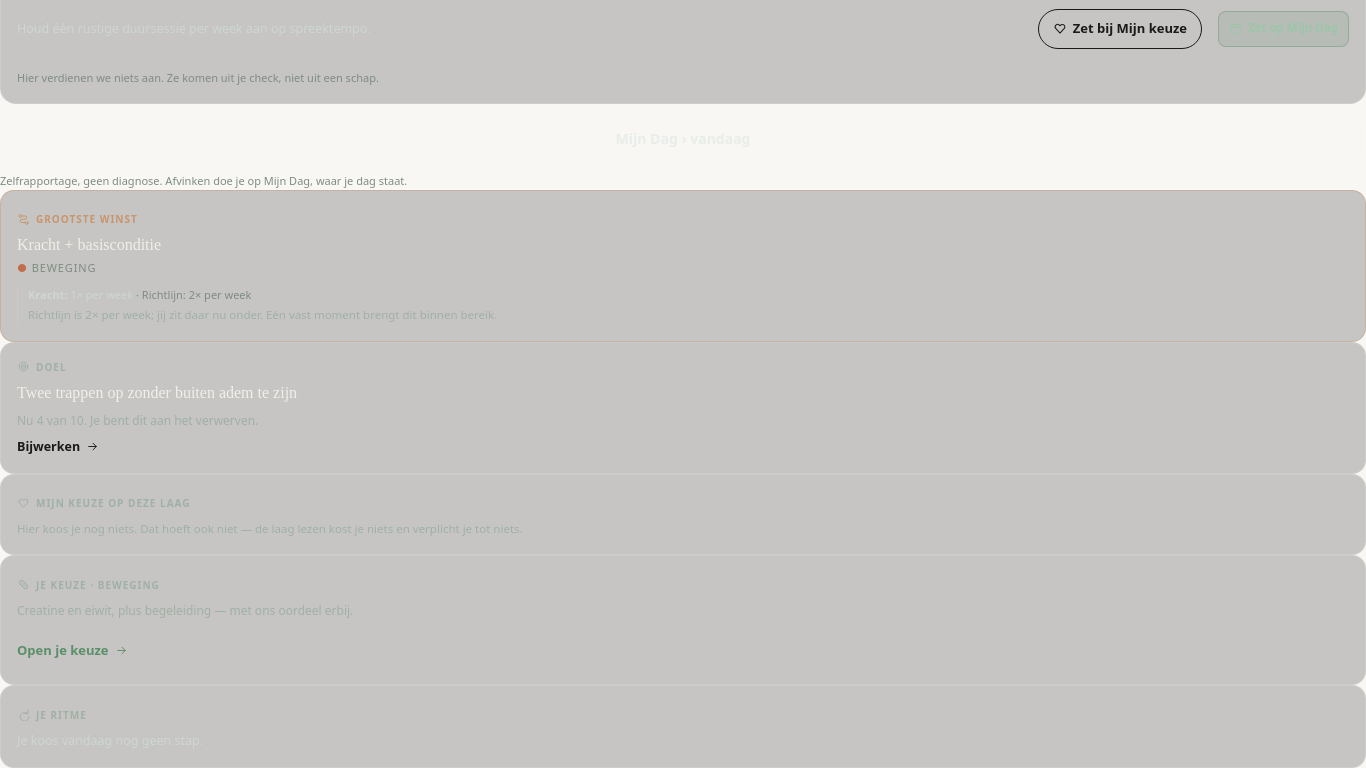
Test: Contextkolom — zone: doel › laat je hier herscoren, zonder naar het midden te hoeven
(page scrolled)
Click the button named "Bijwerken". click: point(157, 393)
box: 17,383 -> 1349,457
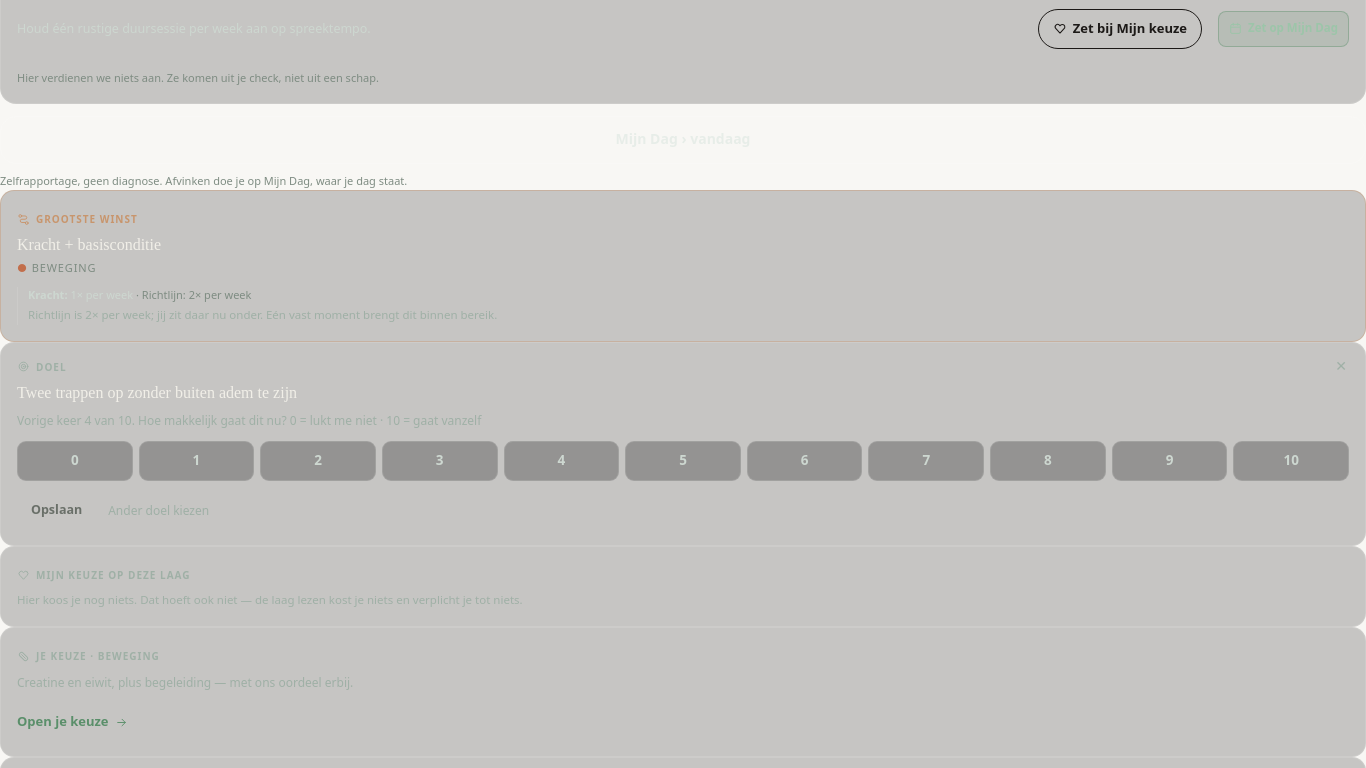
Click the button "8". click: point(1048, 461)
box: 990,441 -> 1106,481
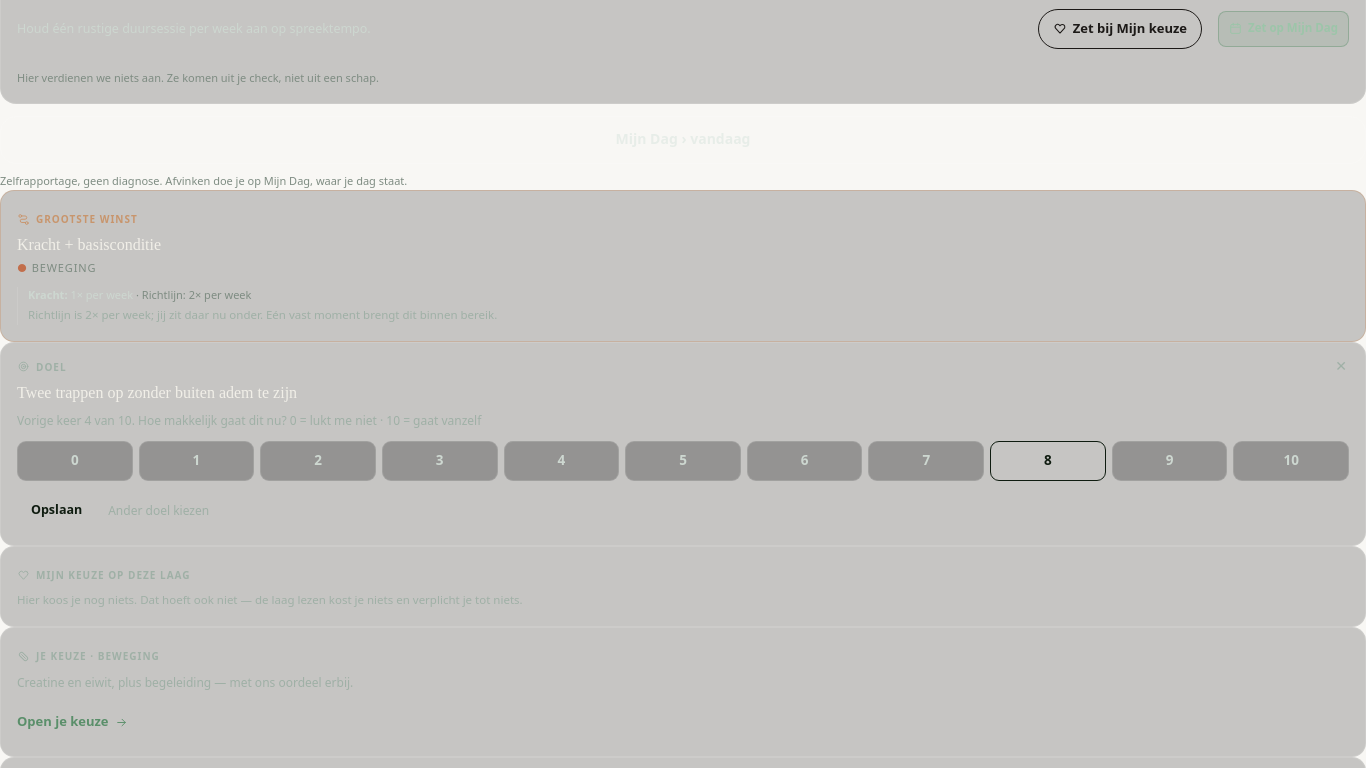
Click the button "Opslaan". click: point(57, 511)
box: 17,493 -> 96,529
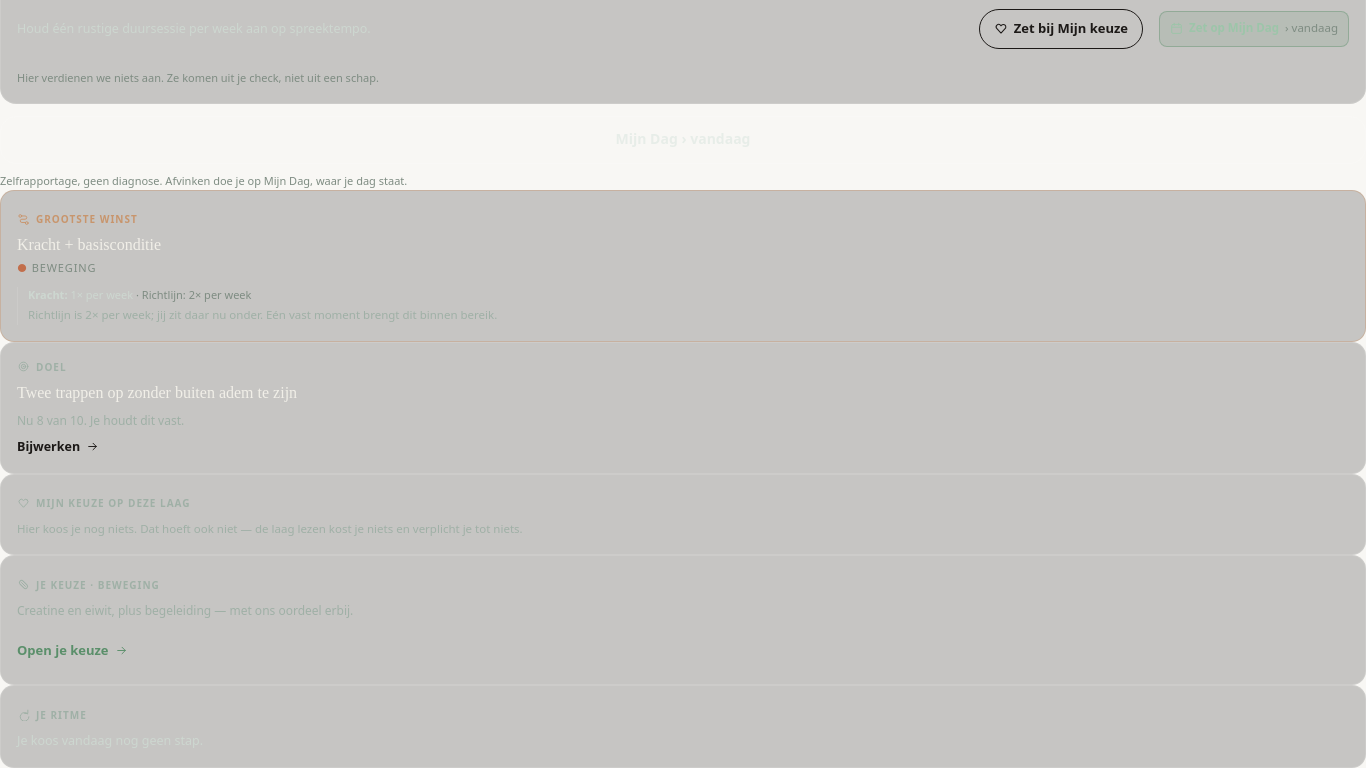
Check: the text "Nu 8 van 10. Je houdt dit vast." is shown, box 17,411 -> 184,431
